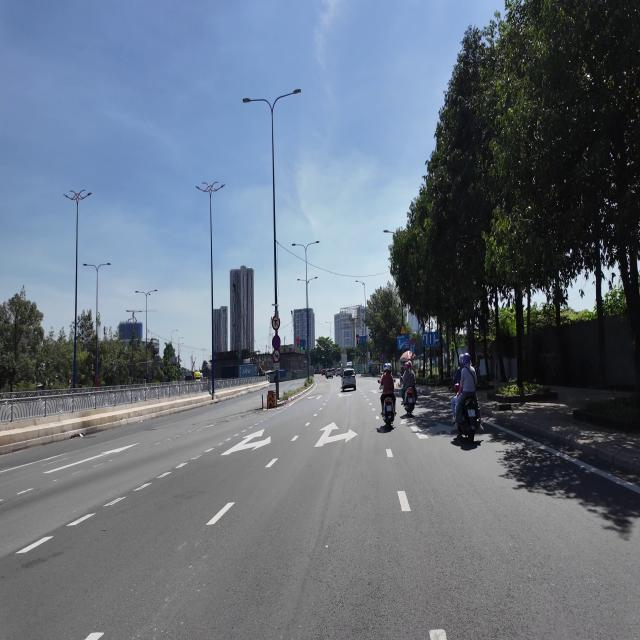car: (342, 369, 356, 391), (326, 370, 333, 378)
motorcycle: (459, 396, 480, 442), (382, 397, 394, 427), (404, 387, 416, 416)
